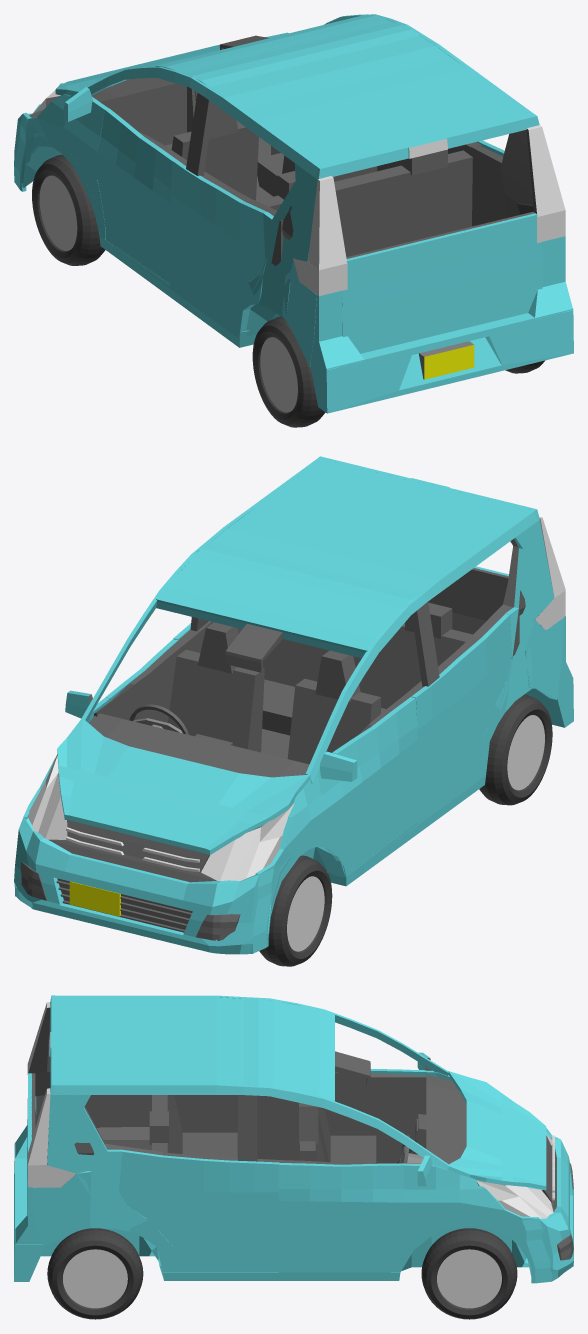
The model's file is car.fbx.
The picture shows the model from 3 angles, top to bottom: view 1: azimuth 30°, elevation 25°; view 2: azimuth 150°, elevation 25°; view 3: azimuth 270°, elevation 25°; orthographic projection. The views are drawn at different scales.
Parts seen in each view (by area): view 1: 立方体.016, 立方体.063, 立方体, 立方体.038, 立方体.053, 立方体.035, 立方体.005, 立方体.039, 立方体.019, 立方体.057, トーラス.001, 立方体.015 (+27 smaller); view 2: 立方体.016, 立方体.021, 立方体.024, 立方体.038, 立方体.057, 立方体.035, 立方体.053, 立方体.039, 立方体.005, 立方体.019, 立方体.015, 立方体.030 (+32 smaller); view 3: 立方体.016, 立方体.037, 立方体.036, 立方体.045, 立方体.021, 立方体.006, 立方体.020, 立方体.013, トーラス.002, トーラス, 立方体.004, 立方体.039 (+30 smaller).
Part boxes in pixels (box(x1,y1,x2,y2)): 立方体.016: box(155, 14, 530, 166); 立方体.063: box(342, 213, 542, 353); 立方体: box(310, 308, 573, 413); 立方体.038: box(170, 160, 268, 331); 立方体.053: box(257, 150, 472, 256); 立方体.035: box(97, 108, 176, 288); 立方体.005: box(248, 163, 322, 318); 立方体.039: box(91, 78, 186, 145); 立方体.019: box(37, 94, 108, 240); 立方体.057: box(171, 121, 377, 200); トーラス.001: box(32, 154, 105, 265); 立方体.015: box(88, 66, 321, 178); 立方体.016: box(156, 459, 530, 652); 立方体.021: box(57, 719, 310, 855); 立方体.024: box(14, 817, 259, 954); 立方体.038: box(411, 613, 511, 825); 立方体.057: box(168, 649, 380, 764); 立方体.035: box(332, 697, 417, 871); 立方体.053: box(263, 623, 472, 708); 立方体.039: box(89, 713, 309, 777); 立方体.005: box(495, 520, 554, 711); 立方体.019: box(279, 753, 351, 877); 立方体.015: box(305, 510, 537, 783); 立方体.030: box(49, 820, 216, 882); 立方体.016: box(55, 996, 334, 1101); 立方体.037: box(119, 1149, 279, 1272); 立方体.036: box(278, 1163, 404, 1272); 立方体.045: box(174, 1072, 426, 1163); 立方体.021: box(447, 1071, 546, 1190); 立方体.006: box(47, 1093, 147, 1231); 立方体.020: box(391, 1163, 505, 1272); 立方体.013: box(53, 1083, 448, 1169); トーラス.002: box(47, 1228, 143, 1319); トーラス: box(421, 1228, 517, 1319); 立方体.004: box(32, 1171, 90, 1246); 立方体.039: box(426, 1075, 466, 1163).
Size of the model in its own units: 119 by 108 by 237.
